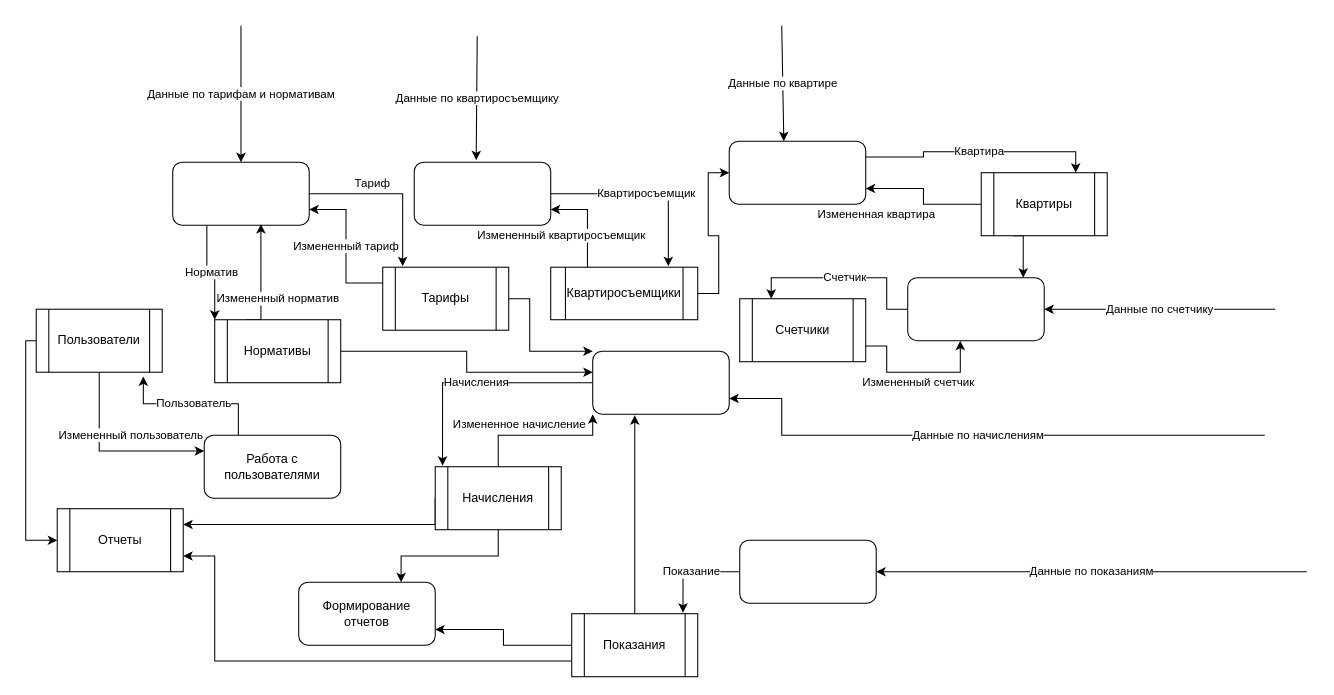
Some shapes in this 1334 by 695 pixel diagram are drawn without their labels. Each missing label, with the centre of its shape:
Работа с квартирами: the point at 797,172
Работа с квартиросъемщиками: the point at 482,193
Работа с начислениями: the point at 660,382
Работа с показаниями: the point at 807,571
Работа с счетчиками: the point at 975,309
Работа с тарифами и нормативами: the point at 240,193
